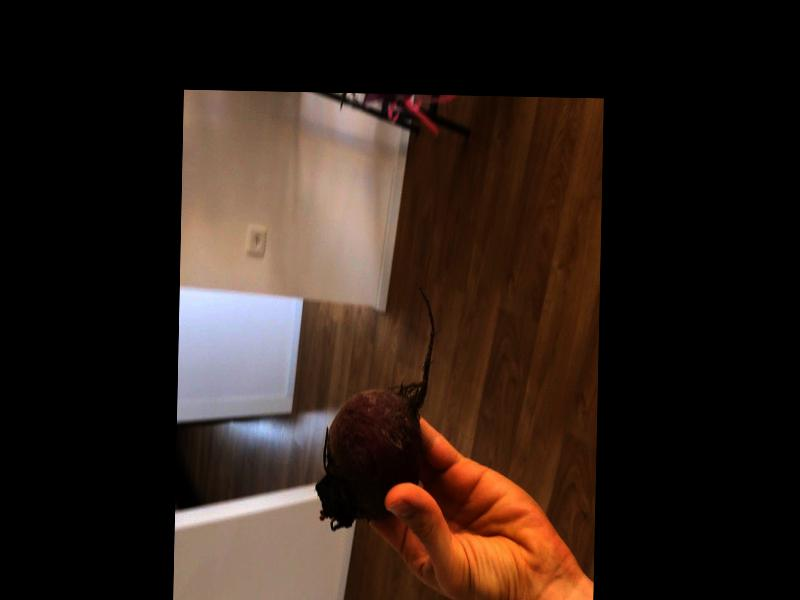Beet: (316, 282, 434, 529)
